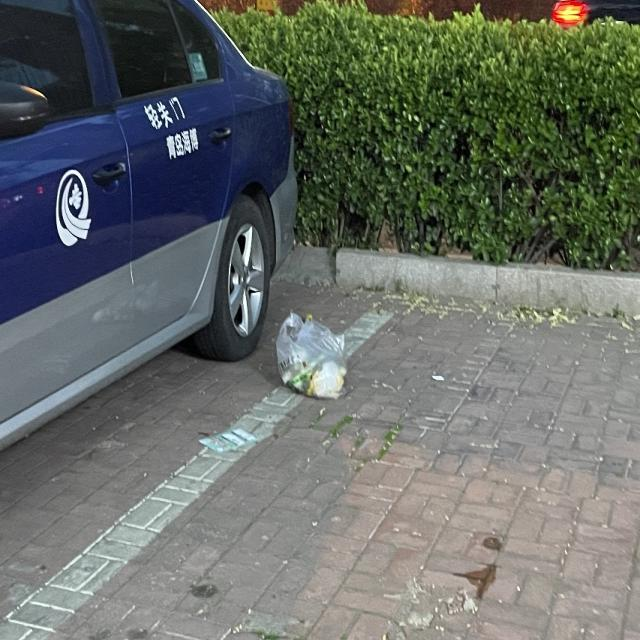garbage: (275, 311, 343, 399)
